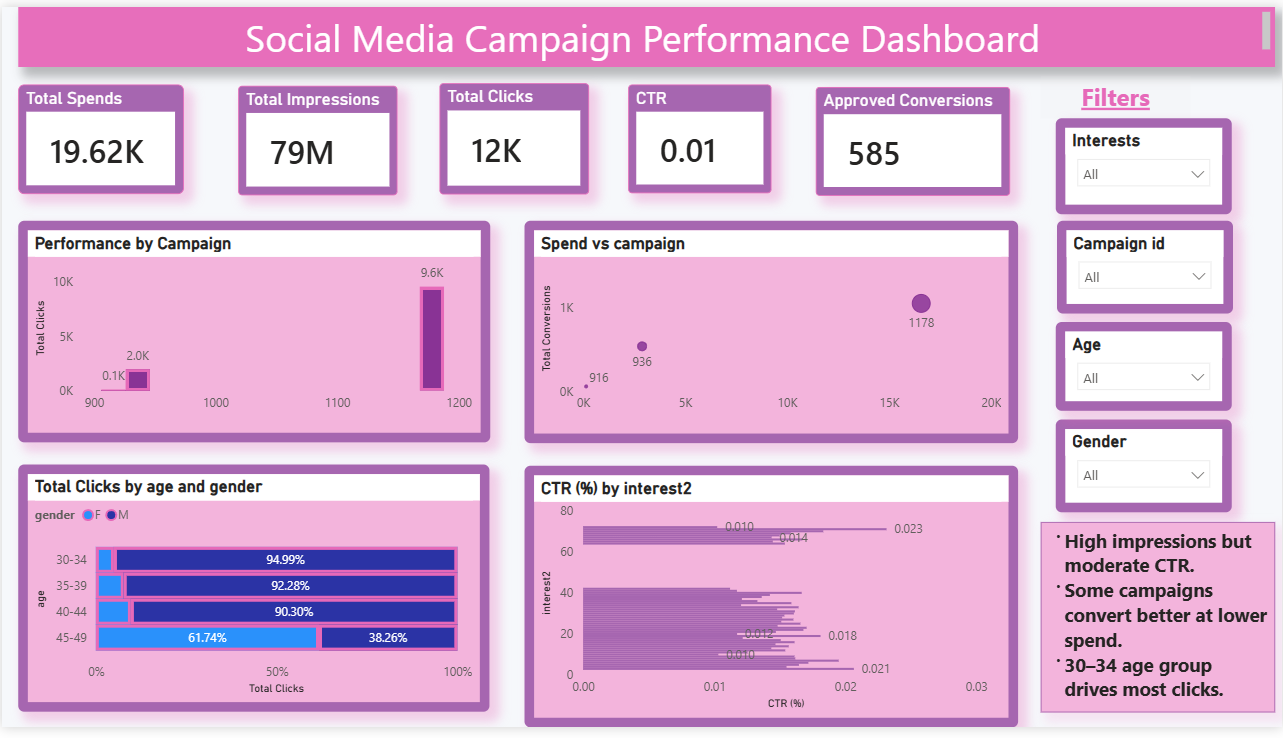

The page's visual inventory and layout, read from the dashboard file:
{"tool":"powerbi","page":{"name":"Page 1","canvas":[1280,720],"ordinal":0},"visuals":[{"type":"textbox","box":[15.7,0,1257.1,60.3],"z":0},{"type":"cardVisual","title":"Total Spends","fields":{"Data":["data.Total Spend"]},"box":[15.7,77.2,165.3,109.8],"z":1000},{"type":"cardVisual","title":"Total Clicks","fields":{"Data":["data.Total Clicks"]},"box":[437.9,76,149.6,111],"z":2000},{"type":"cardVisual","title":"CTR","fields":{"Data":["data.CTR (%)"]},"box":[626.1,77.2,143.6,108.6],"z":3000},{"type":"cardVisual","title":"Total Impressions","fields":{"Data":["data.Total Impressions"]},"box":[236.5,78.4,159.3,109.8],"z":4000},{"type":"cardVisual","title":"Approved Conversions ","fields":{"Data":["data.Approved Conversions"]},"box":[813.1,79.6,194.2,108.6],"z":5000},{"type":"clusteredColumnChart","title":"Performance by Campaign","fields":{"Category":["data.campaign_id"],"Y":["data.Total Clicks"]},"box":[15.7,213.5,471.7,222],"z":6000},{"type":"scatterChart","title":"Spend vs campaign","fields":{"X":["data.Total Spend"],"Y":["data.Total Conversions"],"Category":["data.campaign_id"],"Size":["data.Total Clicks"]},"box":[522.4,217.2,493.4,219.6],"z":7000},{"type":"slicer","title":"Gender","fields":{"Values":["data.gender"]},"box":[1053.2,412.6,149.6,92.9],"z":8000},{"type":"slicer","title":"Interests","fields":{"Values":["data.interest1","data.interest2","data.interest3"]},"box":[1053.2,111,149.6,96.5],"z":9000},{"type":"slicer","title":"Campaign id","fields":{"Values":["data.campaign_id"]},"box":[1053.2,217.2,149.6,92.9],"z":10000},{"type":"slicer","title":"Age","fields":{"Values":["data.age"]},"box":[1053.2,314.9,149.6,89.3],"z":11000},{"type":"hundredPercentStackedBarChart","fields":{"Category":["data.age"],"Y":["data.Total Clicks"],"Series":["data.gender"]},"box":[15.7,457.2,471.7,237.7],"z":12000},{"type":"clusteredBarChart","fields":{"Y":["data.CTR (%)"],"Category":["data.interest2","data.interest3","data.interest1"]},"box":[522.4,458.4,493.4,237.7],"z":13000},{"type":"textbox","box":[1038.7,68.8,149.6,42.2],"z":13001},{"type":"textbox","box":[1038.7,515.2,234,190.6],"z":13002}]}

Visuals, with their boxes in screenshot pixels (x1, y1, x2, y2), scaled from the page's 1280x720 canvas onto the 1283x738 screenshot:
textbox: Rect(16, 0, 1276, 62)
"Total Spends" cardVisual: Rect(16, 79, 181, 192)
"Total Clicks" cardVisual: Rect(439, 78, 589, 192)
"CTR" cardVisual: Rect(628, 79, 772, 190)
"Total Impressions" cardVisual: Rect(237, 80, 397, 193)
"Approved Conversions " cardVisual: Rect(815, 82, 1010, 193)
"Performance by Campaign" clusteredColumnChart: Rect(16, 219, 489, 446)
"Spend vs campaign" scatterChart: Rect(524, 223, 1018, 448)
"Gender" slicer: Rect(1056, 423, 1206, 518)
"Interests" slicer: Rect(1056, 114, 1206, 213)
"Campaign id" slicer: Rect(1056, 223, 1206, 318)
"Age" slicer: Rect(1056, 323, 1206, 414)
hundredPercentStackedBarChart - data.age x data.Total Clicks: Rect(16, 469, 489, 712)
clusteredBarChart - data.CTR (%) x data.interest2: Rect(524, 470, 1018, 714)
textbox: Rect(1041, 71, 1191, 114)
textbox: Rect(1041, 528, 1276, 723)
